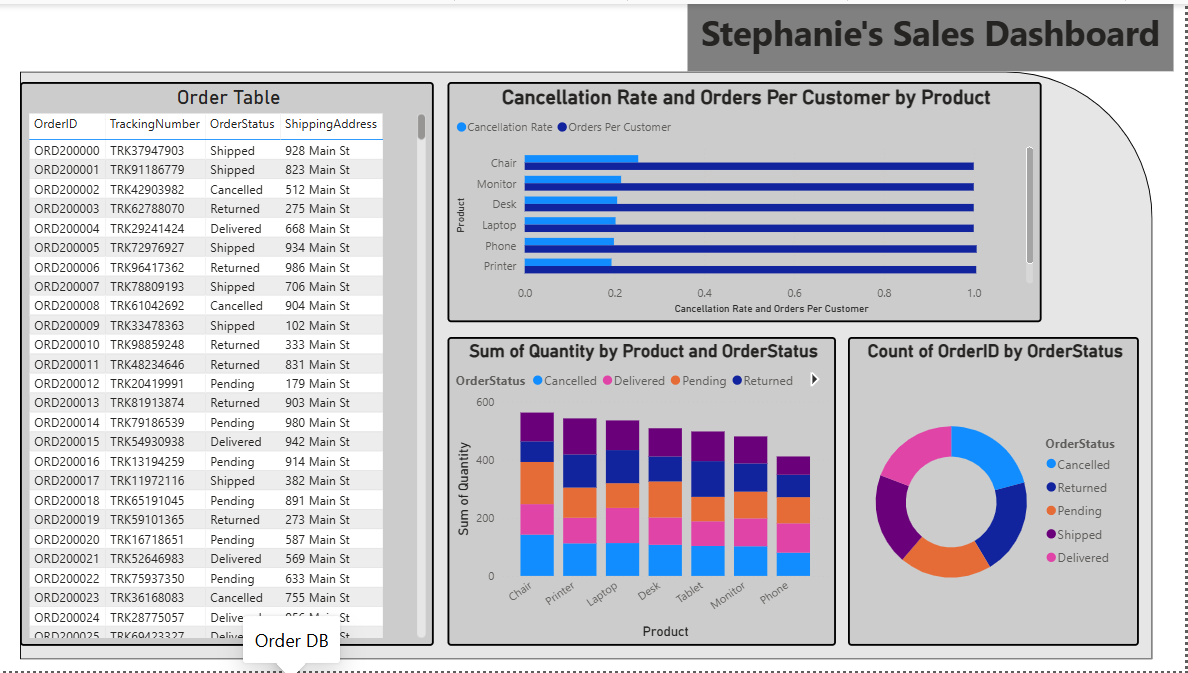

What the dashboard file says about the page in this screenshot:
{"tool":"powerbi","page":{"name":"Order DB","canvas":[1280,720],"ordinal":2},"visuals":[{"type":"shape","box":[22.7,72.9,1222.5,634.7],"z":0},{"type":"textbox","box":[743.2,0,524.6,72.9],"z":1000},{"type":"donutChart","fields":{"Category":["Sheet.OrderStatus"],"Y":["CountNonNull(Sheet.OrderID)"]},"box":[916.5,359.5,314.1,333.6],"z":2000},{"type":"columnChart","fields":{"Y":["Sum(Sheet.Quantity)"],"Category":["Sheet.Product"],"Series":["Sheet.OrderStatus"]},"box":[484.1,359.5,419.4,333.6],"z":3000},{"type":"tableEx","title":"Order Table","fields":{"Values":["Sheet.OrderID","Sheet.TrackingNumber","Sheet.OrderStatus","Sheet.ShippingAddress"]},"box":[22.7,84.2,446.9,608.8],"z":4000},{"type":"clusteredBarChart","fields":{"Y":["Sheet.Cancellation Rate","Sheet.Orders Per Customer"],"Category":["Sheet.Product"]},"box":[484.1,84.2,641.2,259.1],"z":5000}]}

Visuals, with their boxes in screenshot pixels (x1, y1, x2, y2):
shape: crop(18, 73, 1137, 654)
textbox: crop(677, 6, 1157, 73)
donutChart - Sheet.OrderStatus x CountNonNull(Sheet.OrderID): crop(836, 335, 1123, 641)
columnChart - Sum(Sheet.Quantity) x Sheet.Product: crop(440, 335, 824, 641)
"Order Table" tableEx: crop(18, 83, 427, 640)
clusteredBarChart - Sheet.Cancellation Rate x Sheet.Orders Per Customer: crop(440, 83, 1027, 320)
